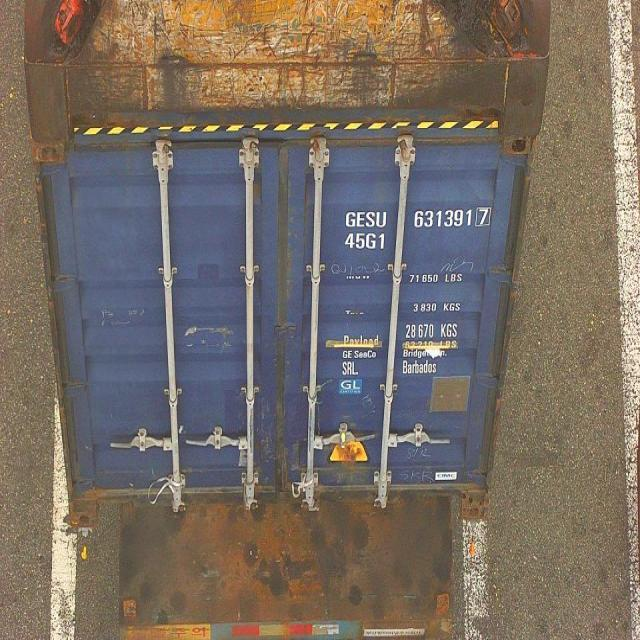ISO: (347, 234, 387, 254)
container_number: (344, 206, 491, 232)
